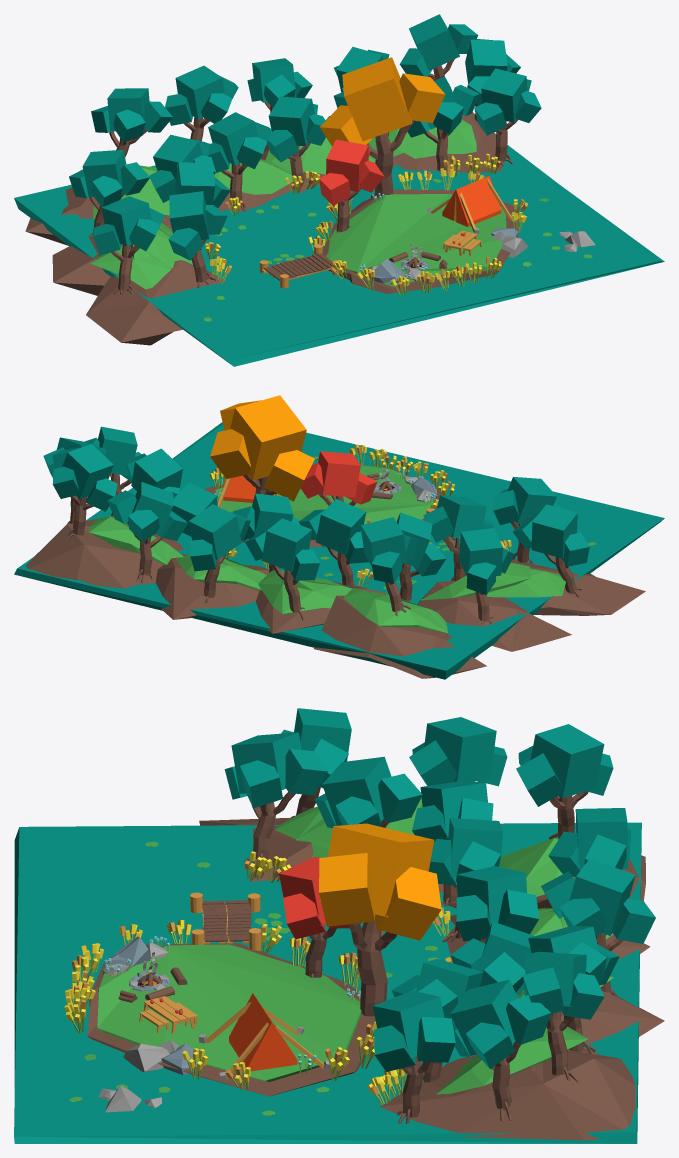
The model's file is Swamp Island.glb.
3 views of the same model, one above another, from view 1: azimuth 30°, elevation 25°; view 2: azimuth 150°, elevation 25°; view 3: azimuth 270°, elevation 25° (orthographic). The views are drawn at different scales.
Visible parts, largest first — view 1: group2136008734, group1996960513, group151683662, group603141852, group1472950353, group1052670248, group760265186, group2099061238, group1420377134, group1774111551, group684750817, group1327080236 (+21 smaller); view 2: group2136008734, group151683662, group1297782163, group880033640, group1242887192, group1004619122, group1776715167, group760265186, group1472950353, group853010250, group761897651, group1996960513 (+21 smaller); view 3: group2136008734, group1996960513, group151683662, group1297782163, group912524470, group1327080236, group684750817, group1052670248, group761897651, group1458085261, group1004619122, group1420377134 (+23 smaller).
Part boxes in pixels (x1=…): group2136008734: x1=14, y1=144, x2=664, y2=366; group1996960513: x1=326, y1=194, x2=506, y2=286; group151683662: x1=320, y1=57, x2=445, y2=197; group603141852: x1=86, y1=260, x2=225, y2=345; group1472950353: x1=92, y1=196, x2=164, y2=294; group1052670248: x1=474, y1=68, x2=541, y2=165; group760265186: x1=165, y1=65, x2=238, y2=140; group2099061238: x1=208, y1=112, x2=271, y2=211; group1420377134: x1=69, y1=149, x2=150, y2=239; group1774111551: x1=319, y1=139, x2=384, y2=233; group684750817: x1=91, y1=88, x2=172, y2=157; group1327080236: x1=168, y1=191, x2=227, y2=287; group2136008734: x1=14, y1=422, x2=664, y2=679; group151683662: x1=210, y1=395, x2=314, y2=542; group1297782163: x1=26, y1=519, x2=183, y2=588; group880033640: x1=314, y1=595, x2=486, y2=678; group1242887192: x1=417, y1=580, x2=571, y2=651; group1004619122: x1=52, y1=444, x2=117, y2=539; group1776715167: x1=107, y1=482, x2=187, y2=582; group760265186: x1=245, y1=518, x2=319, y2=620; group1472950353: x1=513, y1=504, x2=589, y2=597; group853010250: x1=155, y1=553, x2=269, y2=619; group761897651: x1=188, y1=504, x2=250, y2=603; group1996960513: x1=215, y1=465, x2=436, y2=524; group2136008734: x1=14, y1=822, x2=641, y2=1143; group1996960513: x1=97, y1=944, x2=361, y2=1081; group151683662: x1=319, y1=823, x2=441, y2=1016; group1297782163: x1=380, y1=1048, x2=635, y2=1140; group912524470: x1=450, y1=979, x2=550, y2=1121; group1327080236: x1=224, y1=732, x2=327, y2=868; group684750817: x1=516, y1=724, x2=613, y2=839; group1052670248: x1=372, y1=991, x2=455, y2=1123; group761897651: x1=541, y1=858, x2=655, y2=996; group1458085261: x1=314, y1=756, x2=422, y2=828; group1004619122: x1=522, y1=951, x2=604, y2=1085; group1420377134: x1=409, y1=717, x2=507, y2=786.
Size of the model in its own units: 4.24 by 1.43 by 3.31.
